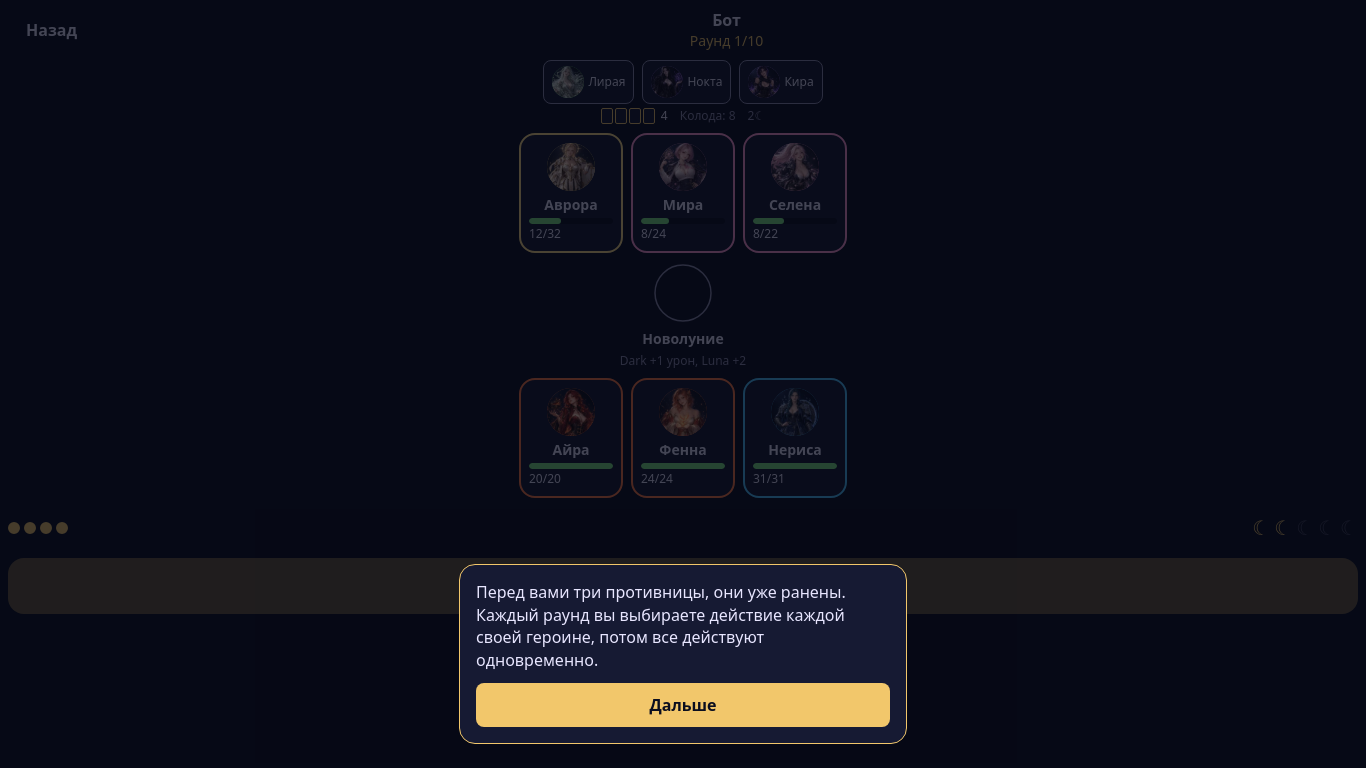
Test: экран обучения › начинает бой сценария и показывает текст шага 0; «Дальше» продвигает шаг
Expected: the message shows "Перед вами три противницы, они уже ранены. Каждый раунд вы выбираете действие каждой своей героине, потом все действуют одновременно.", [476,581,846,671]
Click the button "Дальше": [683, 705] box [476,683,890,727]
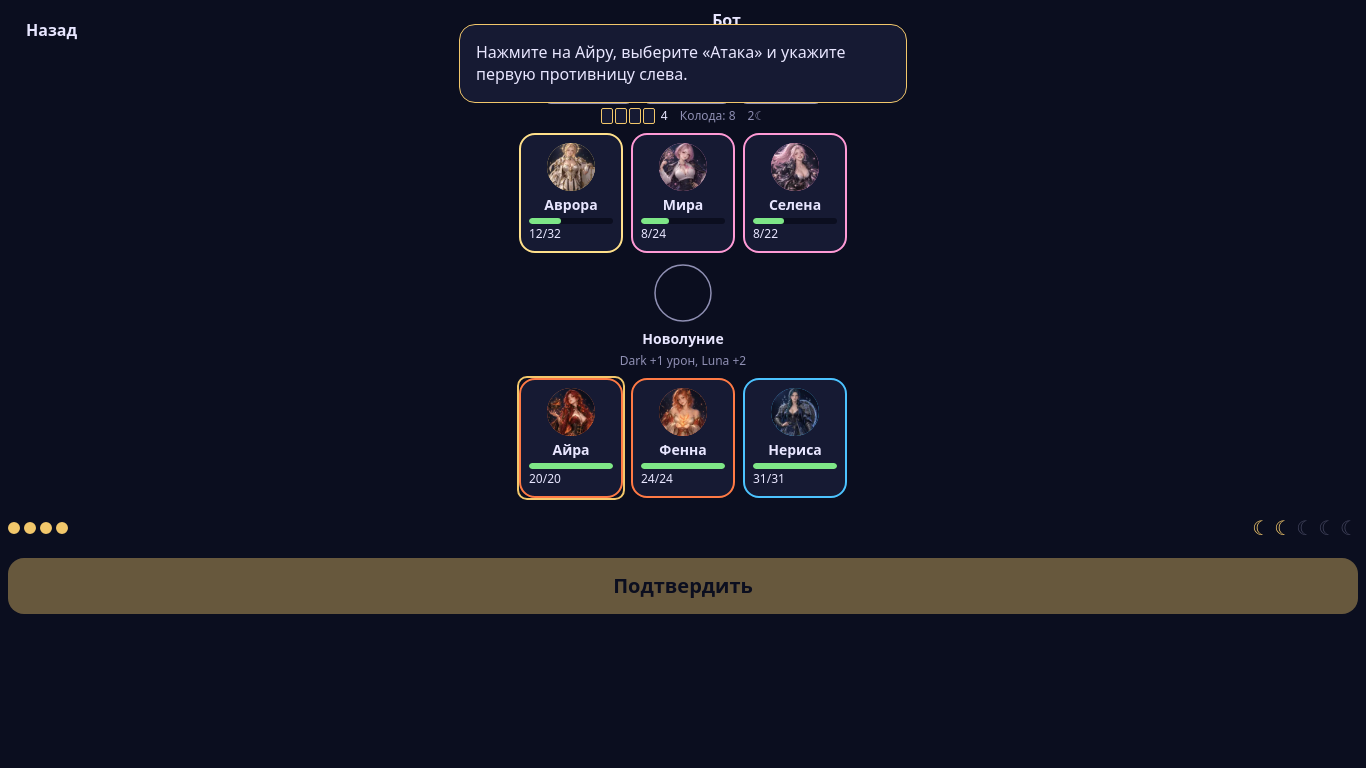
Expected: the message reads "Нажмите на Айру, выберите «Атака» и укажите первую противницу слева.", [476,41,845,85]
Expected: the button "Дальше" is gone
